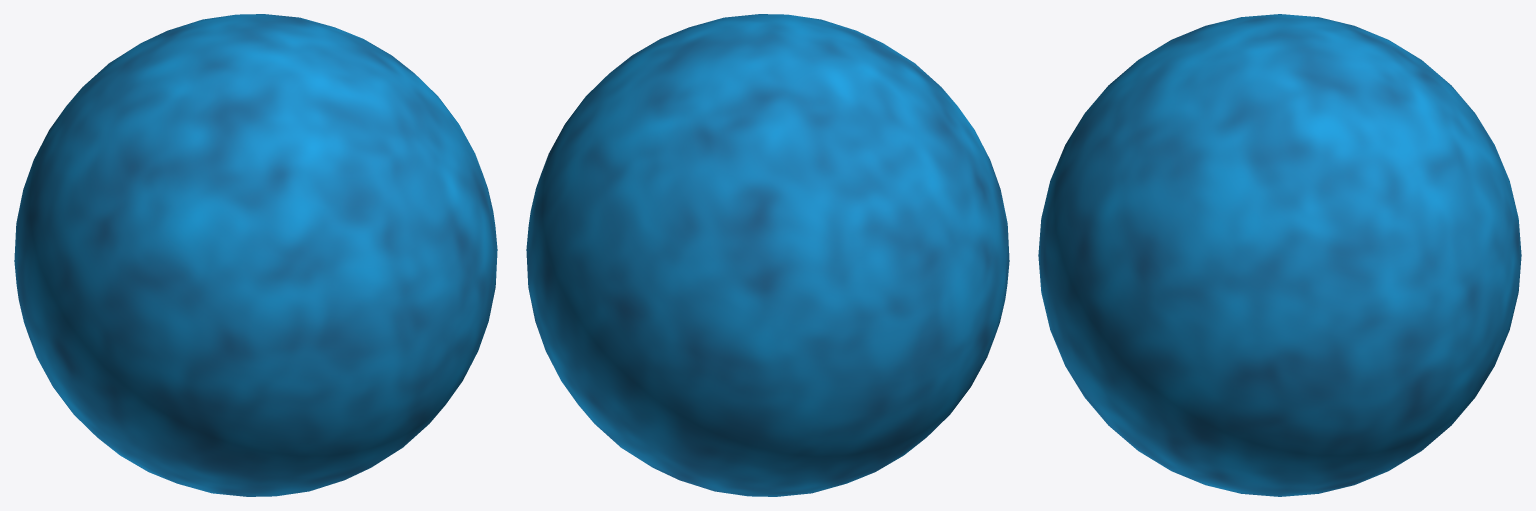
The model's file is Player_Curl_v2.fbx.
3 views of the same model, side by side, from view 1: azimuth 30°, elevation 25°; view 2: azimuth 150°, elevation 25°; view 3: azimuth 270°, elevation 25° (orthographic).
Parts seen in each view (by area): view 1: Player Roll; view 2: Player Roll; view 3: Player Roll.
Part boxes in pixels (box(x1,y1,x2,y2)): Player Roll: box(14, 14, 497, 496); Player Roll: box(526, 14, 1009, 496); Player Roll: box(1038, 14, 1521, 496).
Size of the model in its own units: 130 by 130 by 130.
